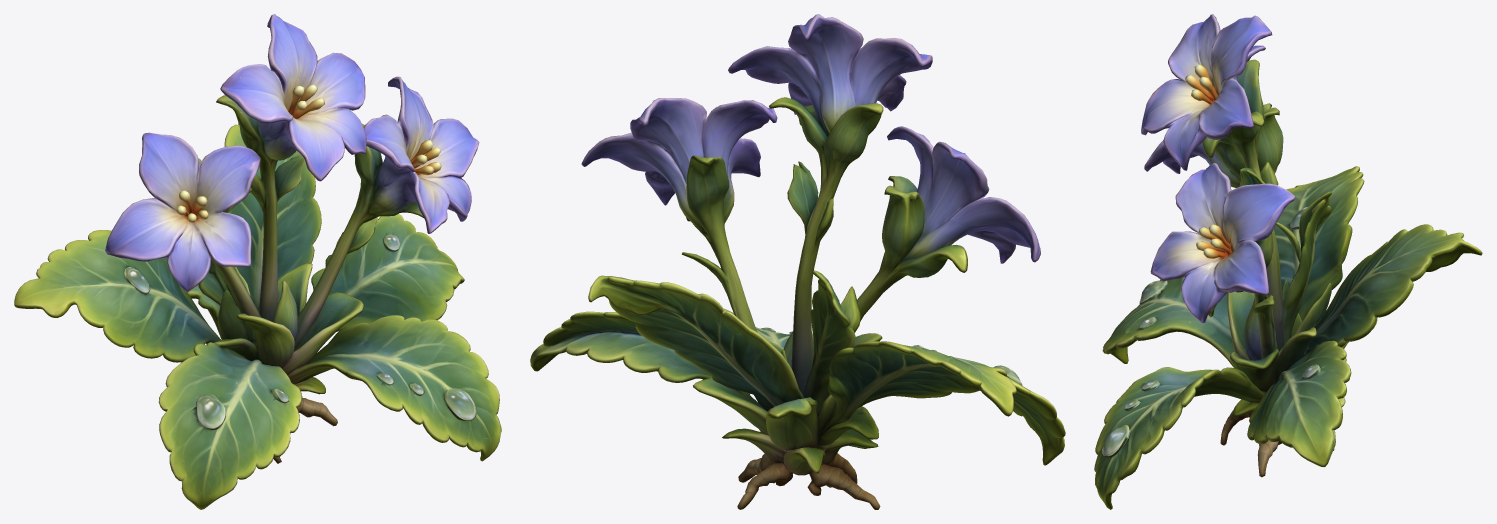
File: ecos_erva.glb
The picture shows the model from 3 angles, left to right: view 1: azimuth 30°, elevation 25°; view 2: azimuth 150°, elevation 25°; view 3: azimuth 270°, elevation 25°; orthographic projection. The views are drawn at different scales.
Visible parts, largest first — view 1: tripo_part_5, tripo_part_8, tripo_part_3, tripo_part_7, tripo_part_2, tripo_part_6, tripo_part_4, tripo_part_0, tripo_part_1, tripo_part_9, tripo_part_21, tripo_part_14 (+3 smaller); view 2: tripo_part_2, tripo_part_1, tripo_part_6, tripo_part_4, tripo_part_7, tripo_part_8, tripo_part_9, tripo_part_0, tripo_part_11, tripo_part_13, tripo_part_12, tripo_part_5 (+2 smaller); view 3: tripo_part_2, tripo_part_6, tripo_part_1, tripo_part_0, tripo_part_4, tripo_part_3, tripo_part_7, tripo_part_5, tripo_part_9, tripo_part_11, tripo_part_8, tripo_part_16 (+2 smaller).
Part boxes in pixels (bbox=[...]): tripo_part_5: bbox=[158, 342, 301, 509]; tripo_part_8: bbox=[105, 132, 260, 292]; tripo_part_3: bbox=[288, 315, 501, 461]; tripo_part_7: bbox=[14, 230, 220, 362]; tripo_part_2: bbox=[294, 76, 479, 349]; tripo_part_6: bbox=[220, 14, 366, 181]; tripo_part_4: bbox=[214, 95, 363, 375]; tripo_part_0: bbox=[311, 214, 464, 331]; tripo_part_1: bbox=[224, 122, 321, 311]; tripo_part_9: bbox=[198, 158, 269, 339]; tripo_part_21: bbox=[196, 395, 225, 429]; tripo_part_14: bbox=[443, 388, 476, 420]; tripo_part_2: bbox=[581, 98, 777, 332]; tripo_part_1: bbox=[588, 275, 803, 406]; tripo_part_6: bbox=[728, 14, 932, 136]; tripo_part_4: bbox=[693, 97, 883, 435]; tripo_part_7: bbox=[817, 341, 1016, 448]; tripo_part_8: bbox=[887, 126, 1040, 263]; tripo_part_9: bbox=[802, 176, 967, 435]; tripo_part_0: bbox=[530, 311, 763, 432]; tripo_part_11: bbox=[805, 270, 855, 413]; tripo_part_13: bbox=[722, 428, 878, 475]; tripo_part_12: bbox=[766, 397, 817, 452]; tripo_part_5: bbox=[979, 376, 1065, 465]; tripo_part_2: bbox=[1150, 163, 1295, 358]; tripo_part_6: bbox=[1141, 14, 1272, 170]; tripo_part_1: bbox=[1294, 224, 1482, 356]; tripo_part_0: bbox=[1247, 340, 1351, 466]; tripo_part_4: bbox=[1202, 59, 1346, 391]; tripo_part_3: bbox=[1094, 367, 1265, 509]; tripo_part_7: bbox=[1274, 166, 1364, 321]; tripo_part_5: bbox=[1102, 277, 1234, 367]; tripo_part_9: bbox=[1214, 103, 1302, 337]; tripo_part_11: bbox=[1283, 191, 1332, 344]; tripo_part_8: bbox=[1144, 45, 1265, 187]; tripo_part_16: bbox=[1196, 224, 1231, 253].
Size of the model in its own units: 0.9786 by 0.9351 by 0.755.
31 materials, 31 textured.
